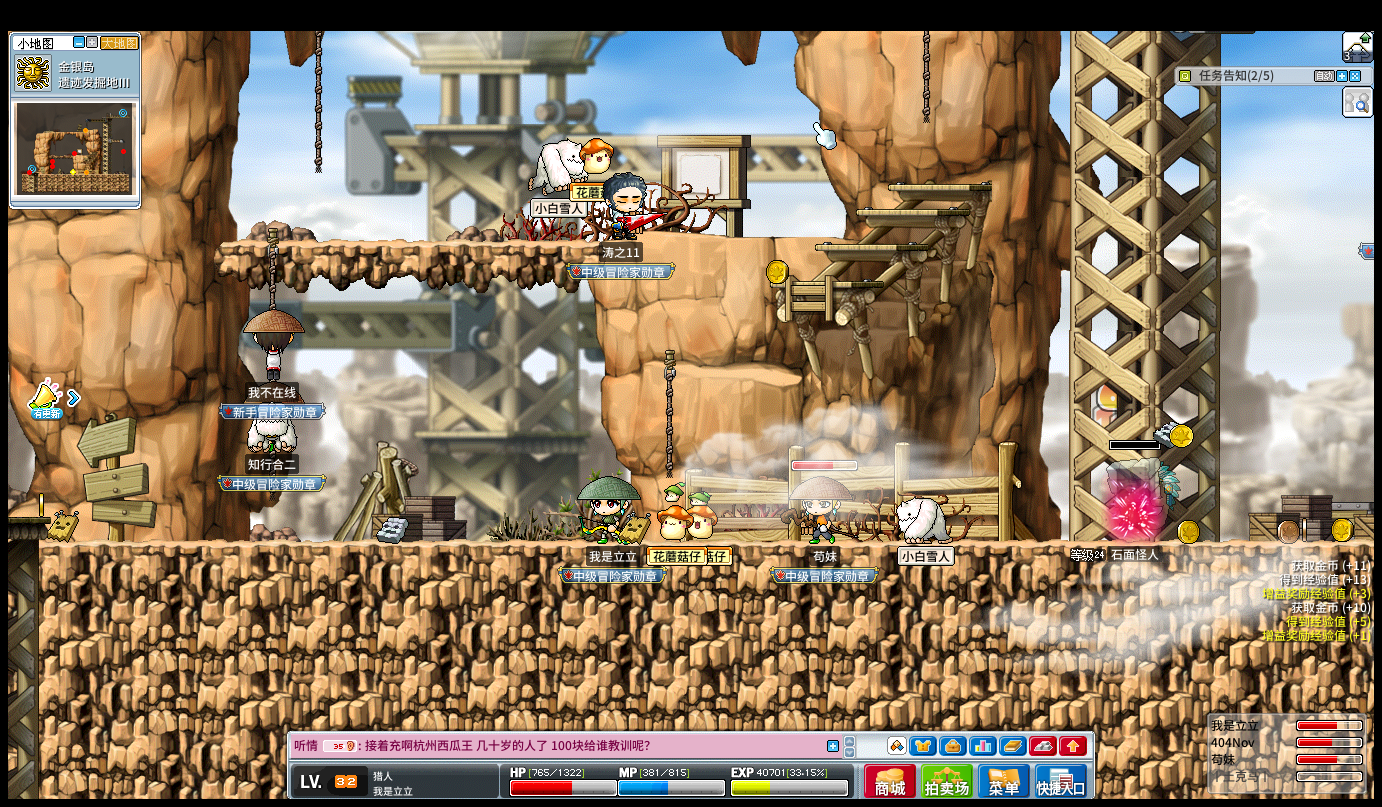floor: (221, 238, 600, 249), (694, 364, 802, 386), (717, 231, 854, 240), (766, 278, 879, 287), (854, 207, 964, 215), (887, 184, 991, 192), (818, 244, 926, 250), (5, 514, 43, 523)
monster: (1093, 456, 1179, 541)
rope: (661, 348, 674, 478), (313, 33, 322, 171), (265, 225, 276, 309), (920, 30, 929, 122)
